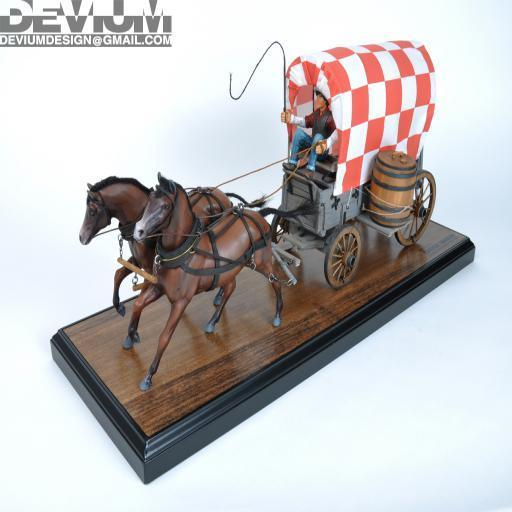horse: (128, 170, 322, 394), (78, 175, 272, 348)
